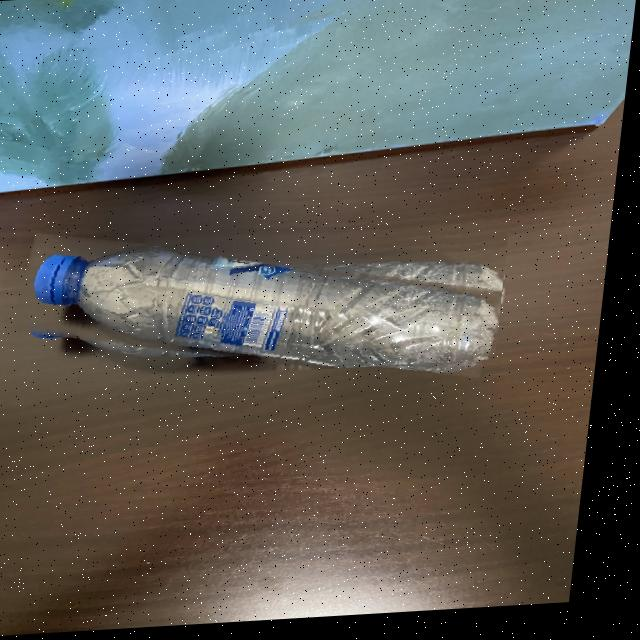litter: (15, 230, 516, 388)
